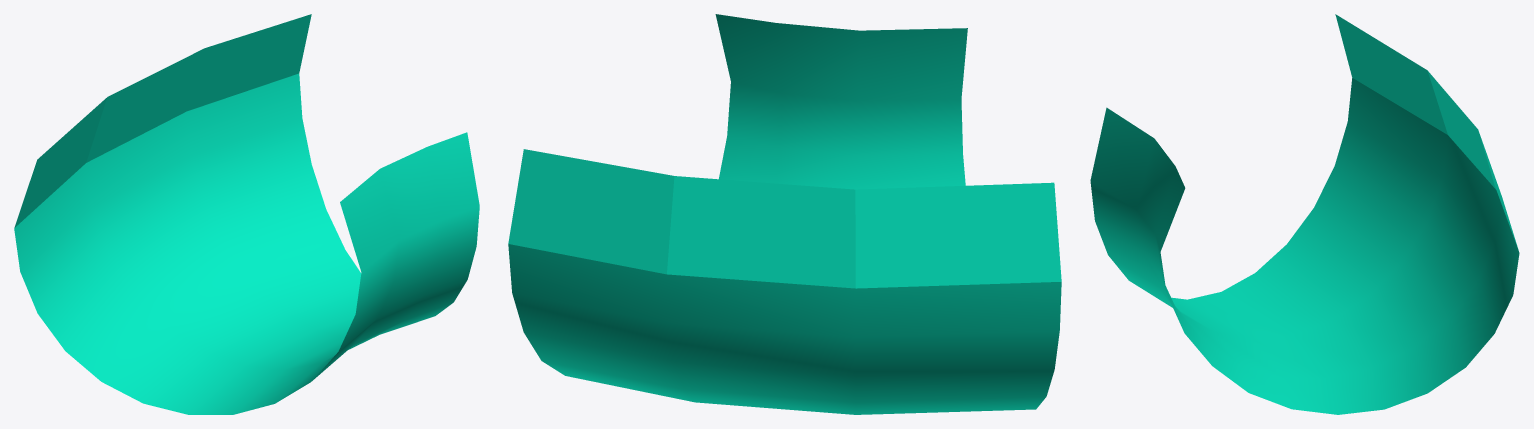
The model's file is Pipe_Collider_Turn_45_B.fbx.
The picture shows the model from 3 angles, left to right: view 1: azimuth 30°, elevation 25°; view 2: azimuth 150°, elevation 25°; view 3: azimuth 270°, elevation 25°; orthographic projection. The views are drawn at different scales.
Parts seen in each view (by area): view 1: Pipe_Collider_Turn_45_B; view 2: Pipe_Collider_Turn_45_B; view 3: Pipe_Collider_Turn_45_B.
Part boxes in pixels (box(x1,y1,x2,y2)): Pipe_Collider_Turn_45_B: box(14, 14, 479, 414); Pipe_Collider_Turn_45_B: box(508, 14, 1061, 414); Pipe_Collider_Turn_45_B: box(1090, 14, 1519, 414).
Bounding box in the file's own units: 4 × 2.44 × 4.07.
